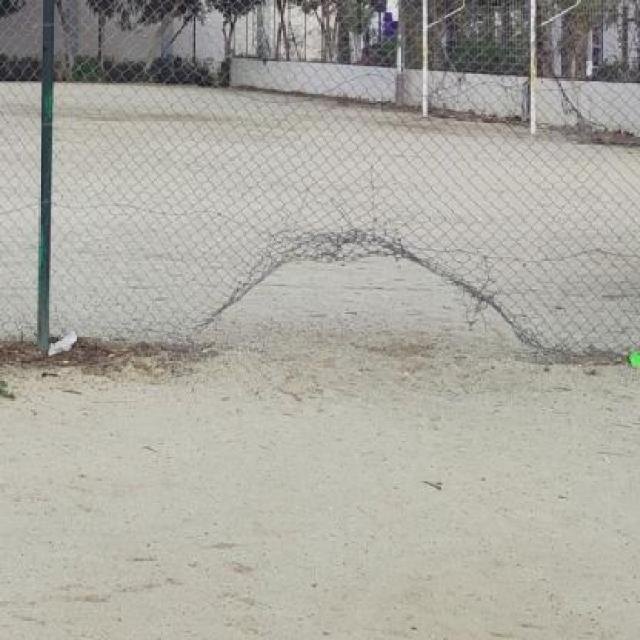fence line: (193, 241, 533, 364)
